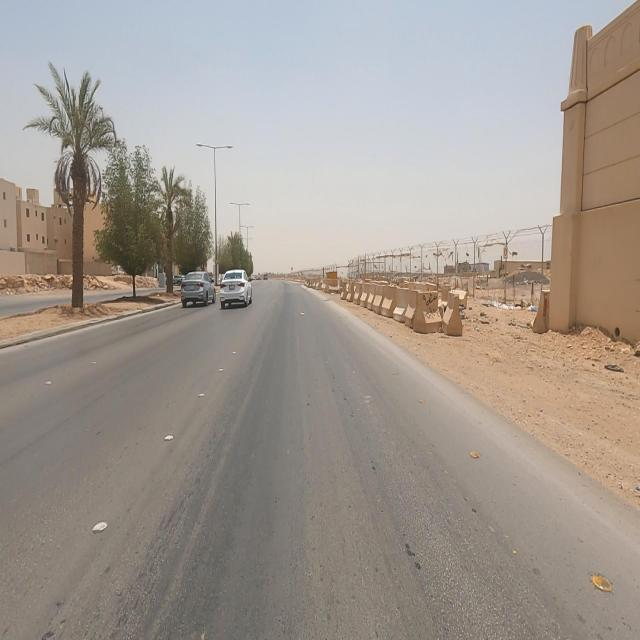debris: (473, 282, 531, 333), (503, 282, 553, 330)
